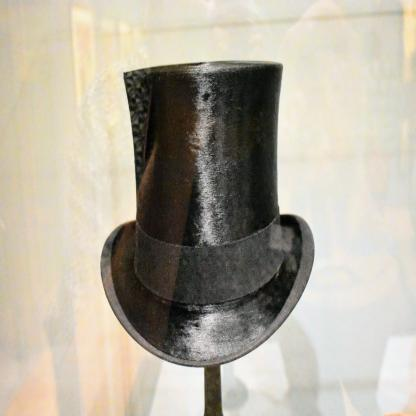hat: (92, 56, 321, 372)
